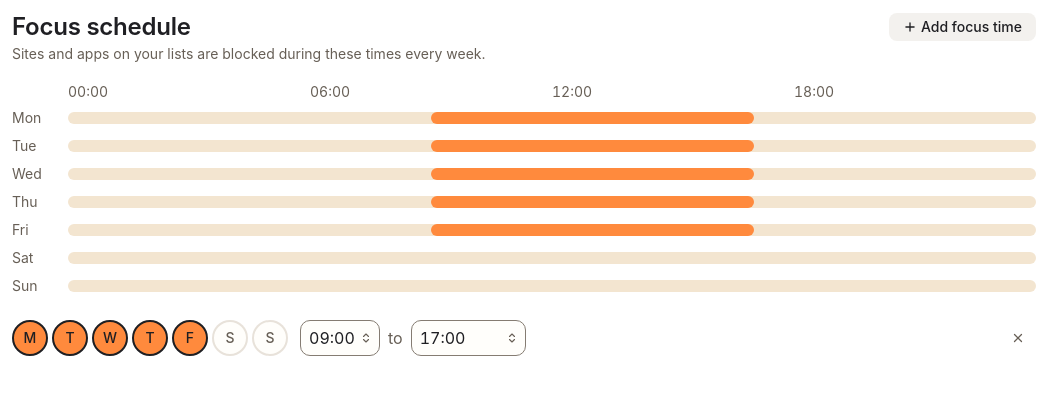
marks an end that comes before the start
Select "08:00" in the dropdown named "End time for focus time 1" at (468, 338), box [411,320,526,356]
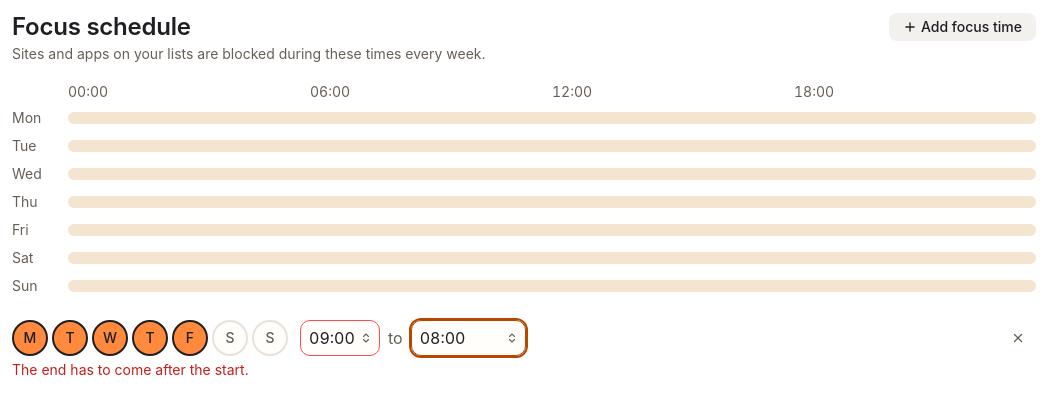
expect the message reads "The end has to come after the start.": met, box [12,361,249,378]
